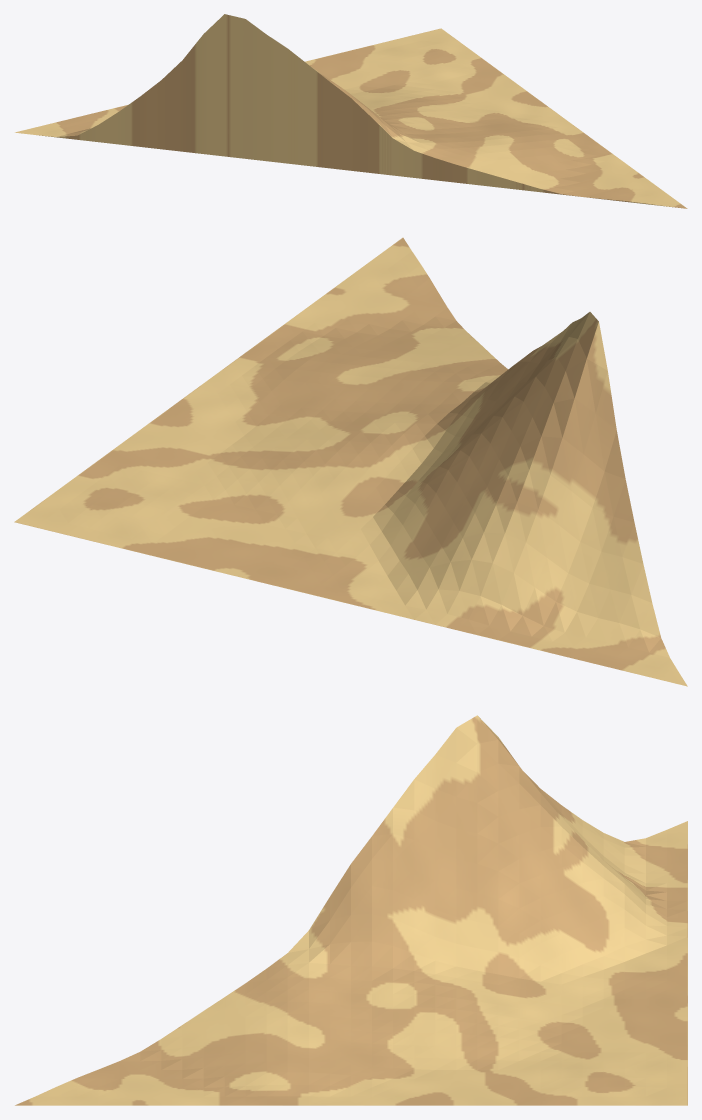
The model's file is Desert_Mountains_08_SE.obj.
3 renders of one model, top to bottom at view 1: azimuth 30°, elevation 25°; view 2: azimuth 150°, elevation 25°; view 3: azimuth 270°, elevation 25°, orthographic. The views are drawn at different scales.
Bounding box in the file's own units: 10 × 3.19 × 10.
1 material, 1 textured.
